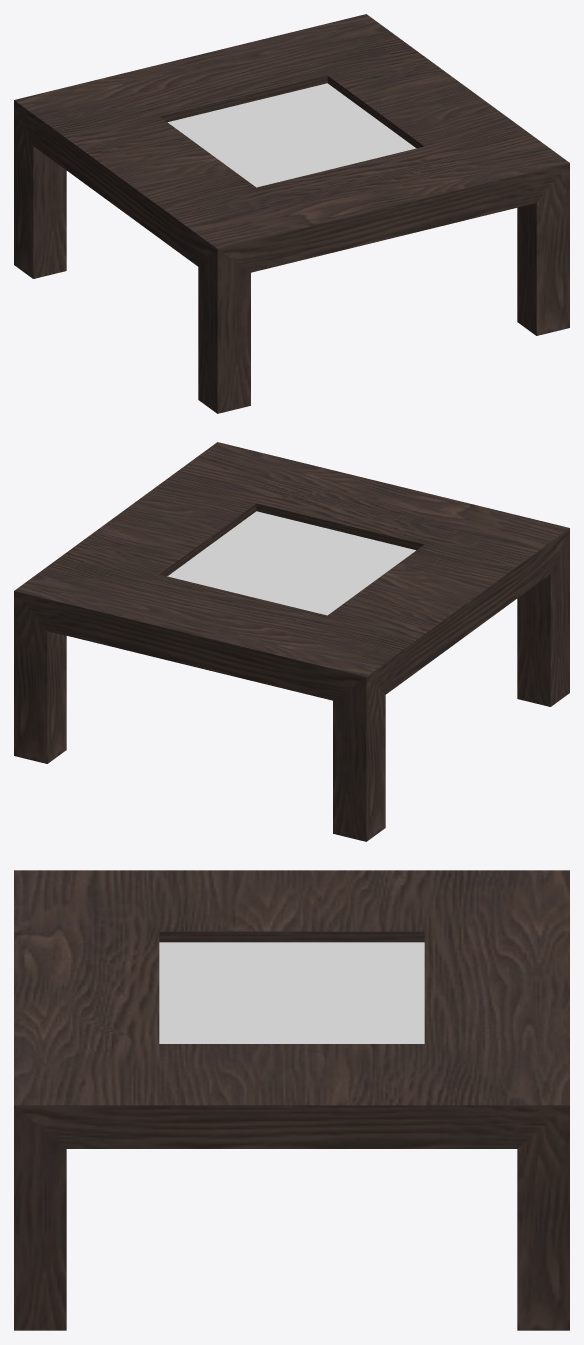
Rendered from Table_24.glb.
The picture shows the model from 3 angles, top to bottom: view 1: azimuth 30°, elevation 25°; view 2: azimuth 150°, elevation 25°; view 3: azimuth 270°, elevation 25°; orthographic projection. The views are drawn at different scales.
Visible parts, largest first — view 1: Table_24; view 2: Table_24; view 3: Table_24.
Boxes of the visible parts, x1=… form: Table_24: x1=14, y1=14, x2=569, y2=413; Table_24: x1=14, y1=442, x2=569, y2=841; Table_24: x1=14, y1=870, x2=569, y2=1330.
Bounding box in the file's own units: 1.22 × 0.5445 × 1.22.
Materials: 2 (1 with a texture image).
